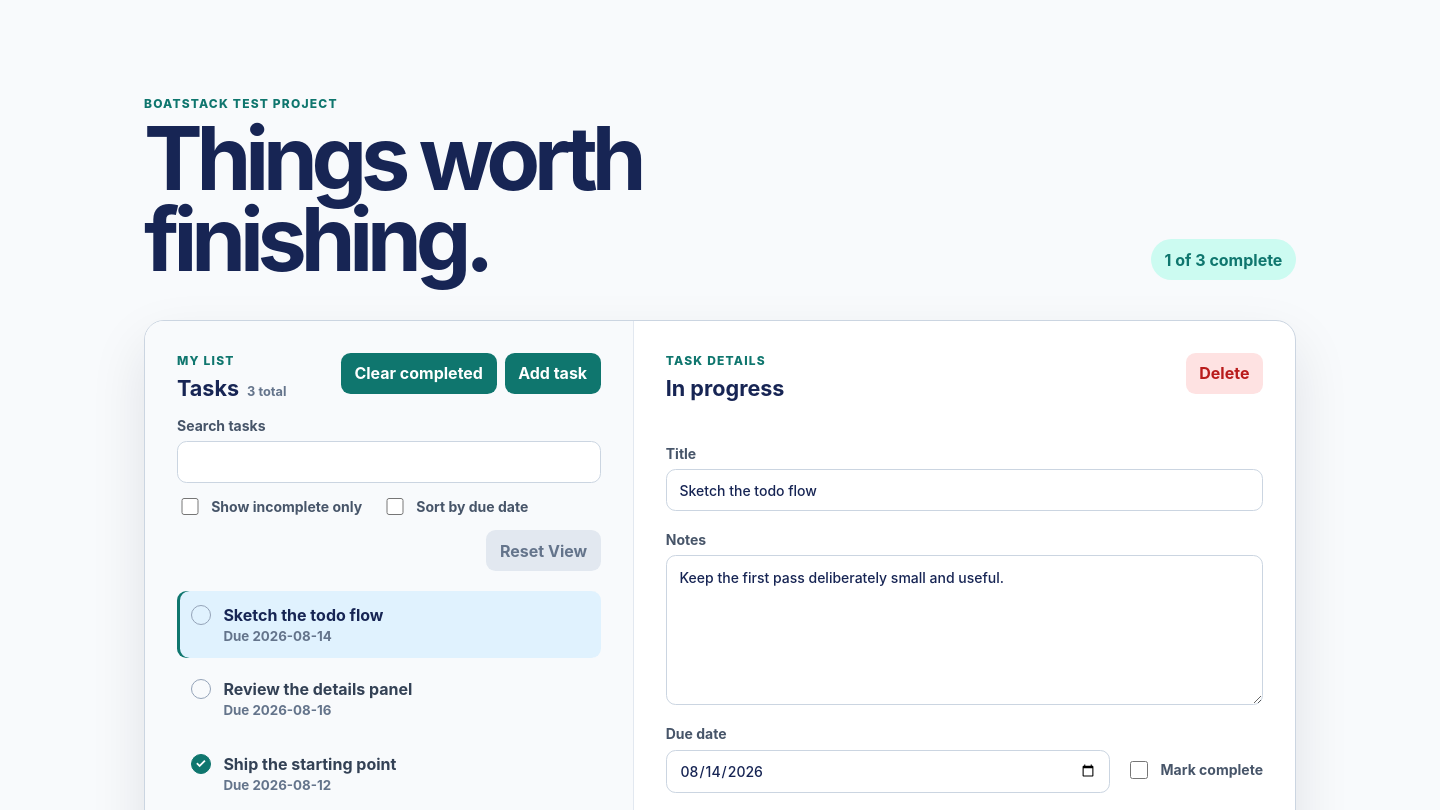
Test: App › updates the total when todos are added or deleted
The image size is (1440, 810).
Step 1. Click the button "Add task" → (553,374), box [504,353,601,394]
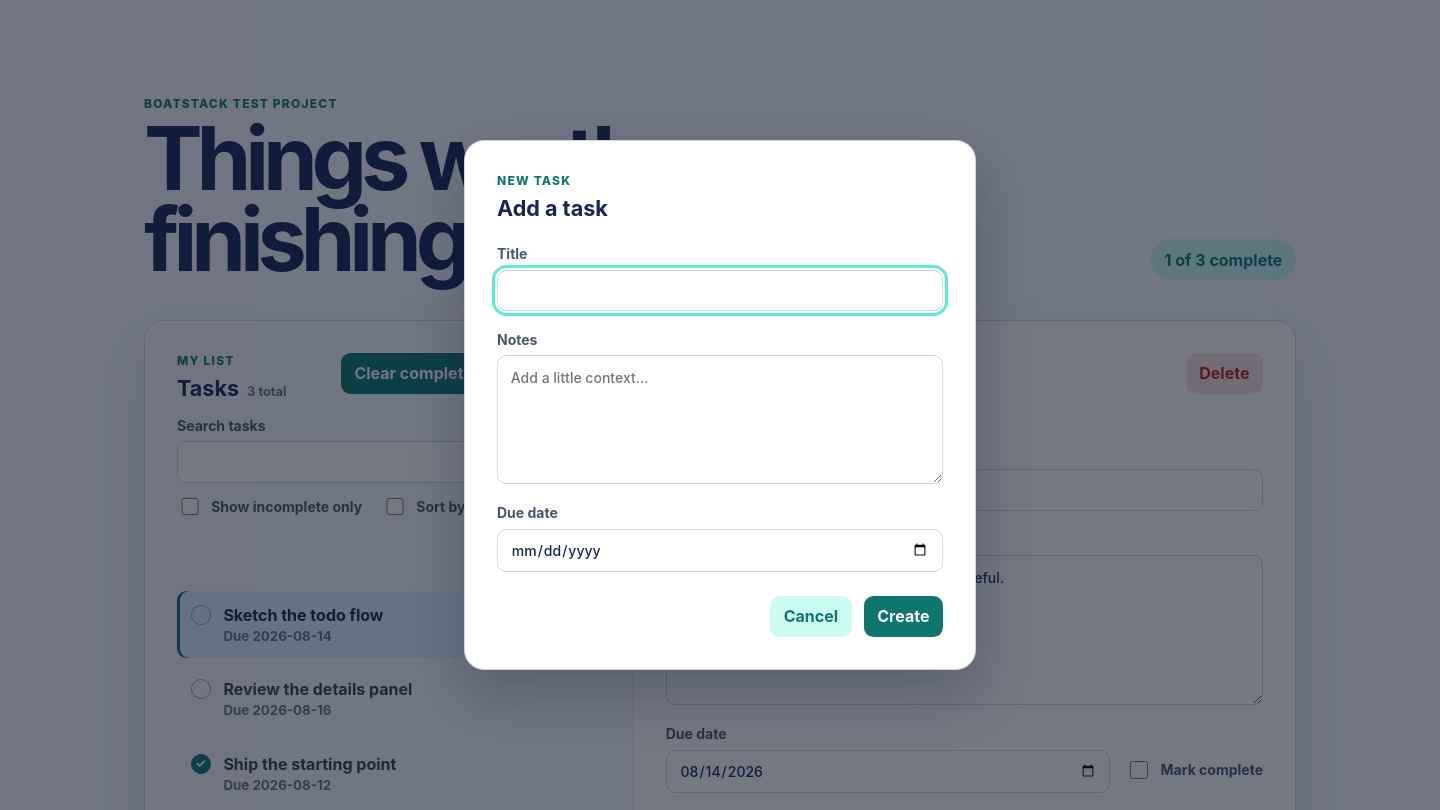
Step 2. Type "Count this task" into the field labelled "Title" → (720,290), box [497,270,943,311]
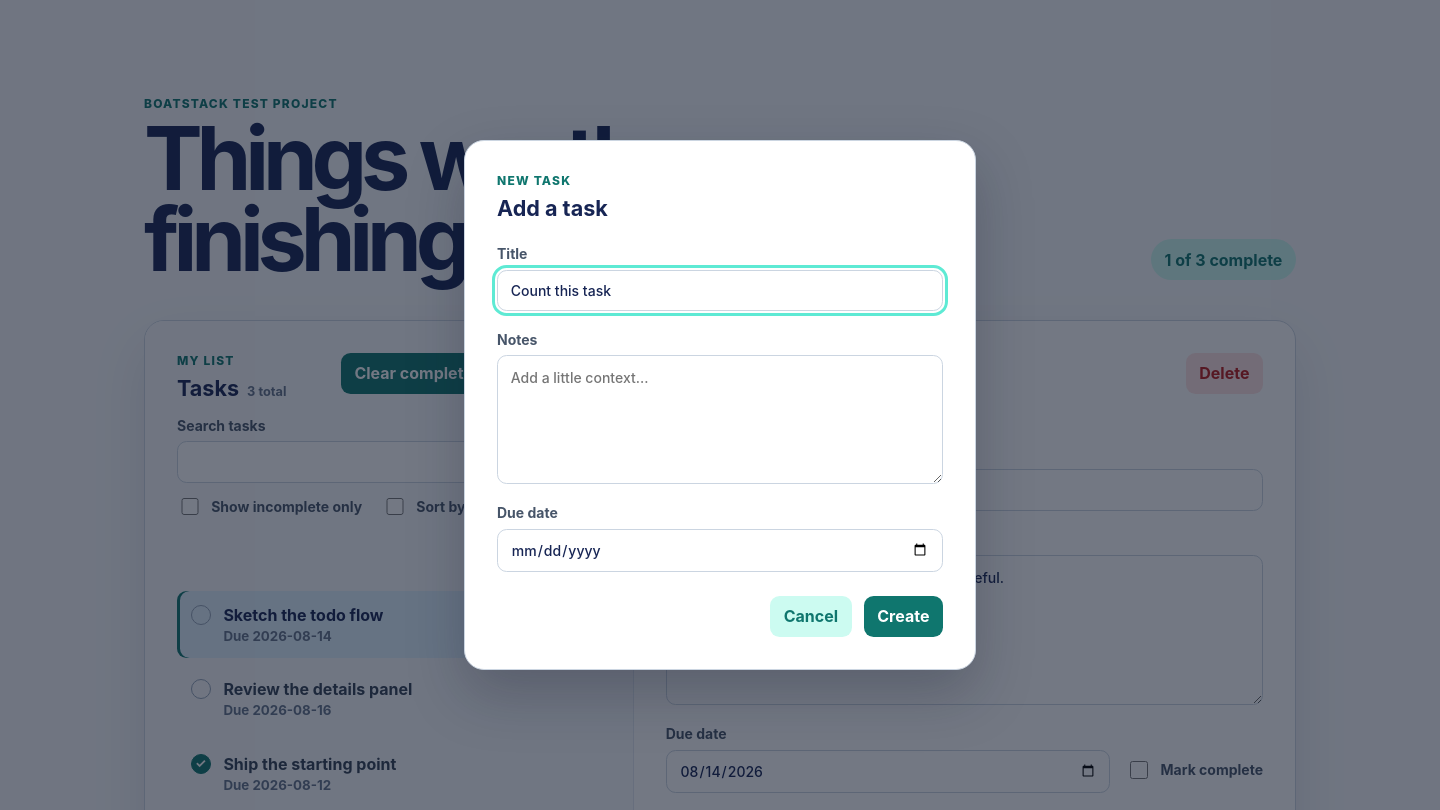
Step 3. Click the button "Create" → (903,616), box [864,596,943,637]
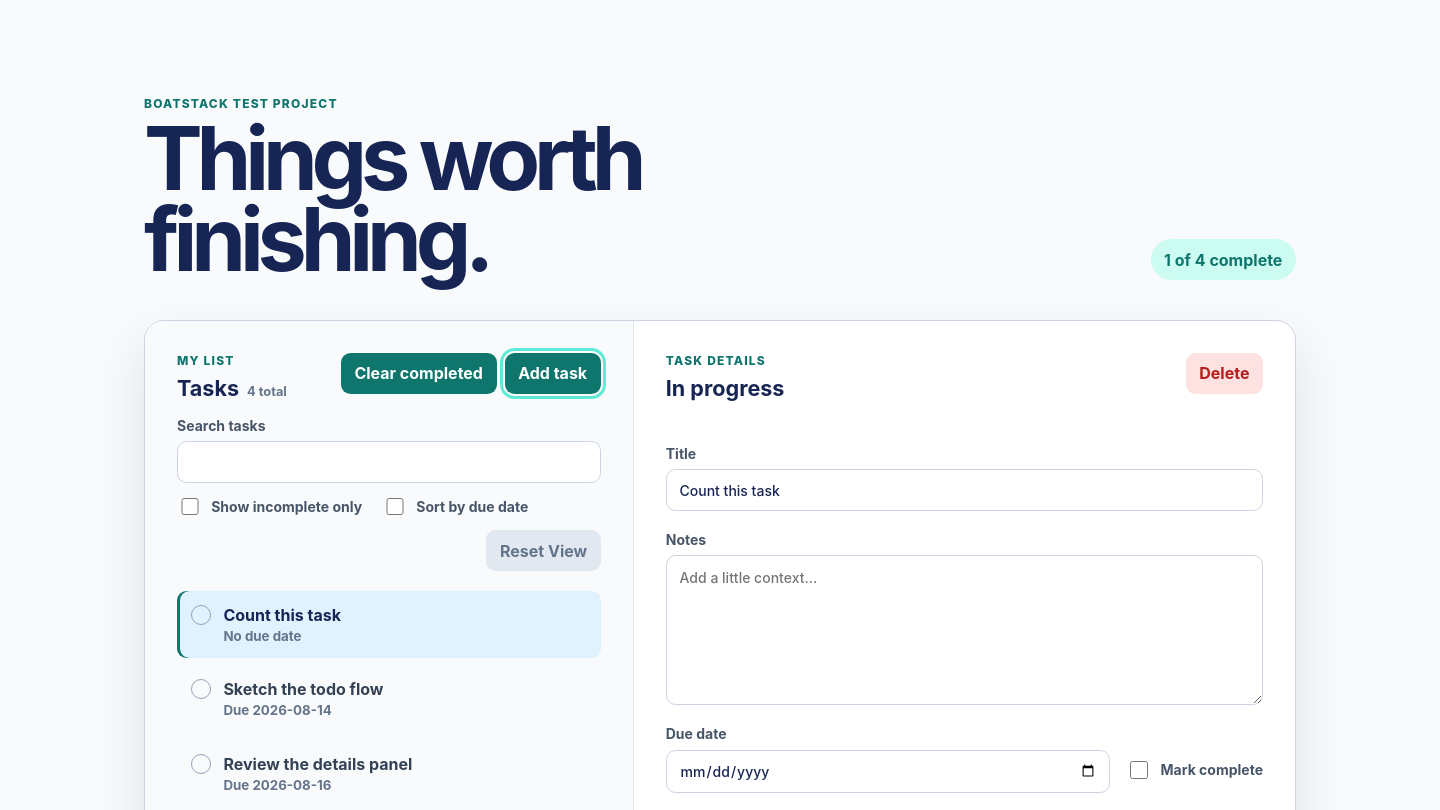
Now the text "4 total" is shown, box [247,384,287,399]
Step 4. Click the checkbox labelled "Mark complete" → (1139,770), box [1130,761,1148,779]
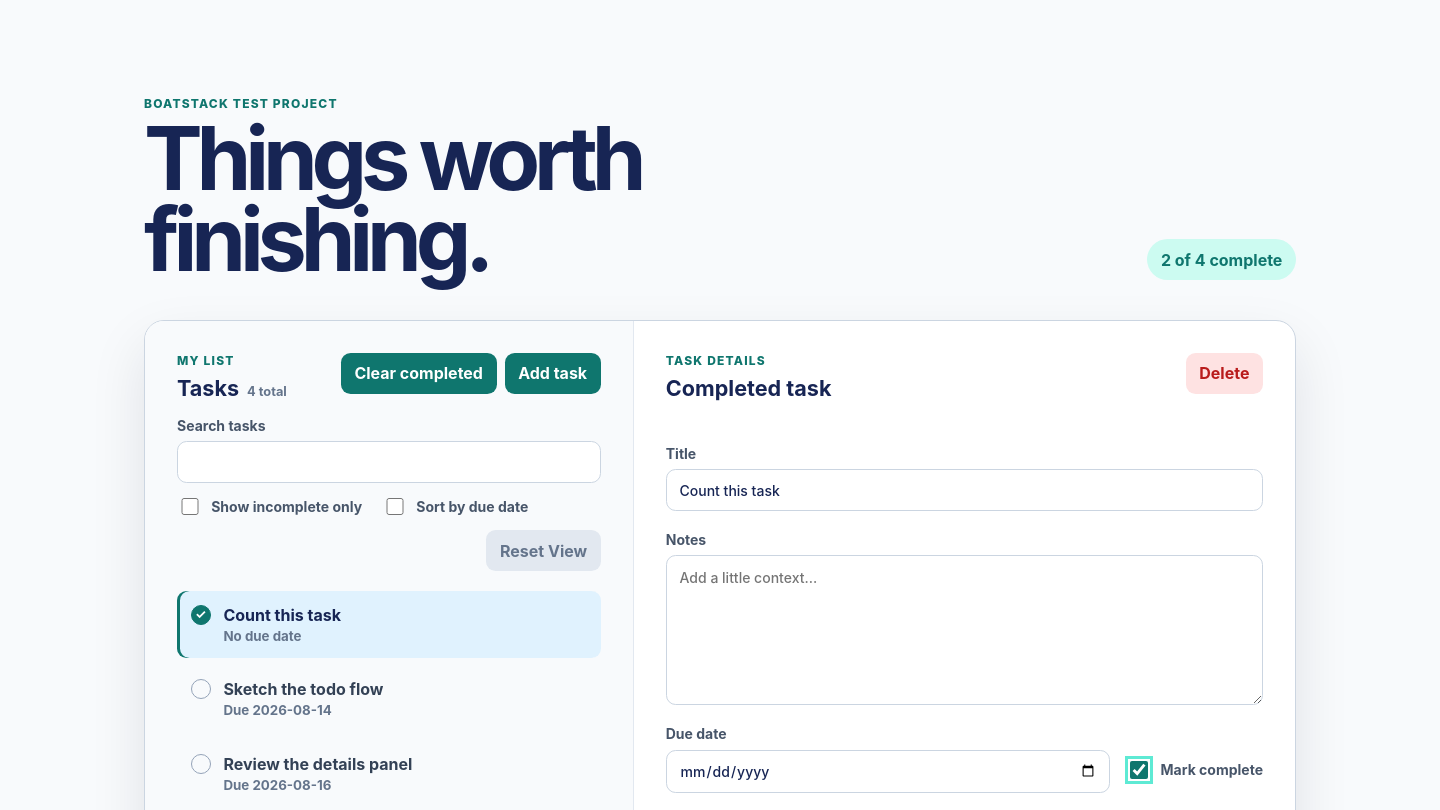
Now the text "4 total" is shown, box [247,384,287,399]
Step 5. Click the button "Delete" → (1224,374), box [1186,353,1263,394]
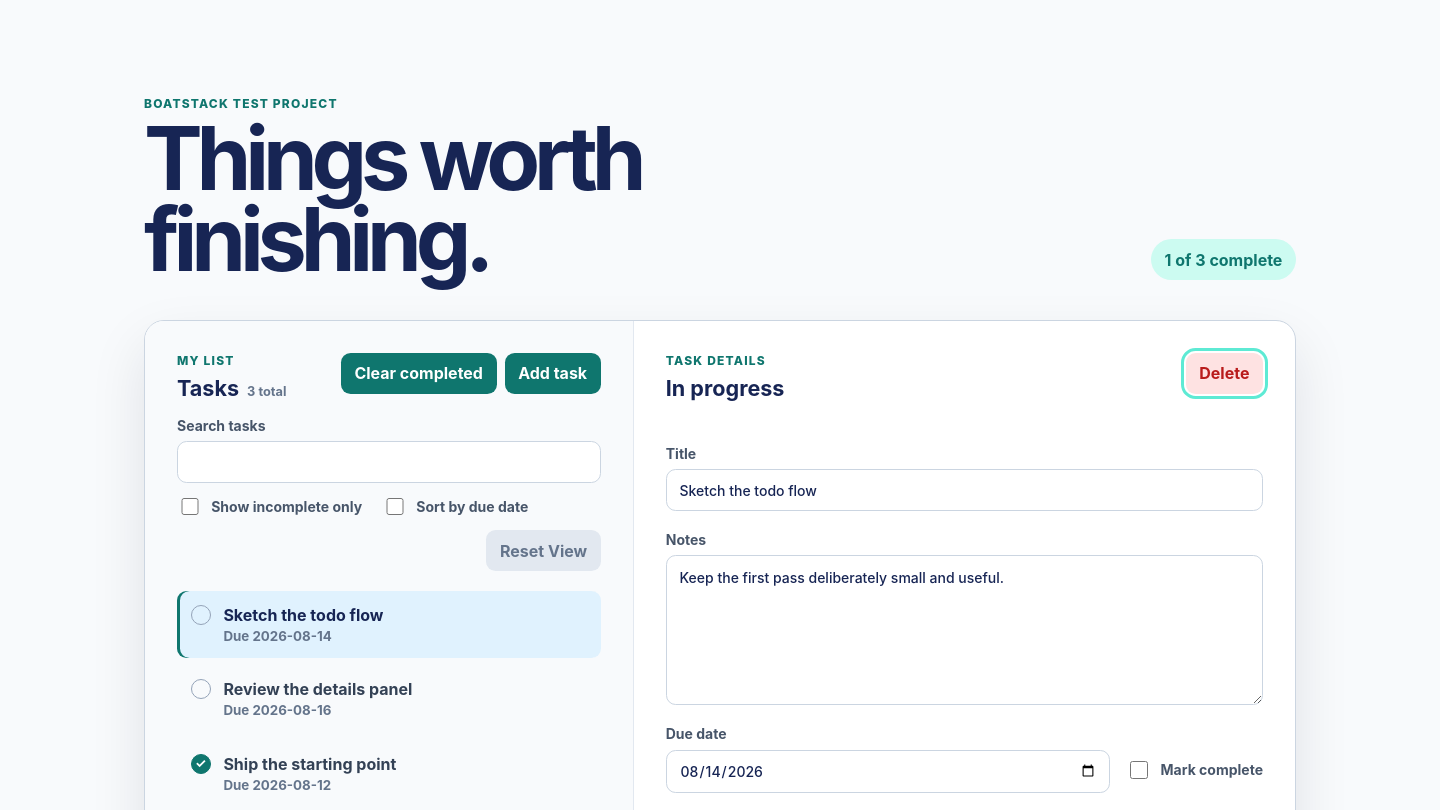
Now the text "3 total" is shown, box [247,384,286,399]
